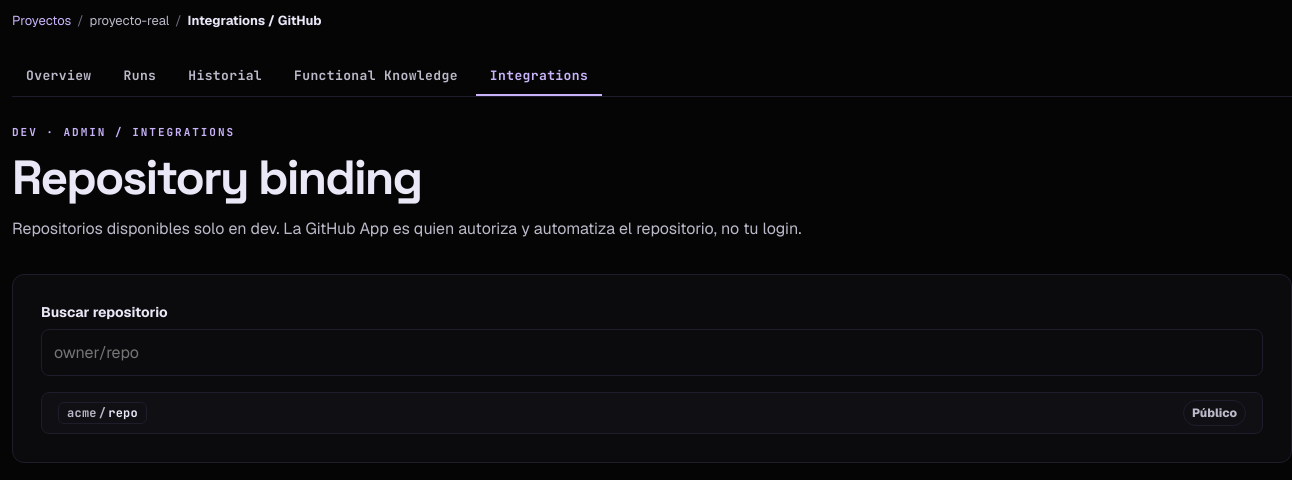
HU64: verify-app-access responde 200 con NOT_AUTHORIZED y la UI no depende del 201
This screenshot has width=1292, height=480.
Click the button "acme / repo Público" at (102, 413), box [41,392,1263,434]
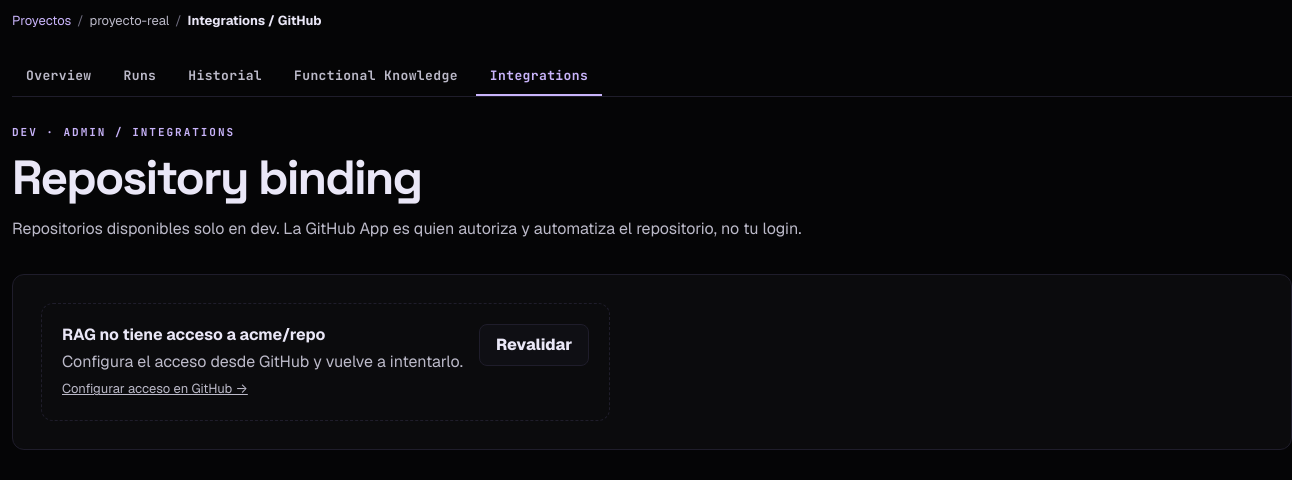
Expected: the text "RAG no tiene acceso a acme/repo" is shown, [62,324,325,345]
